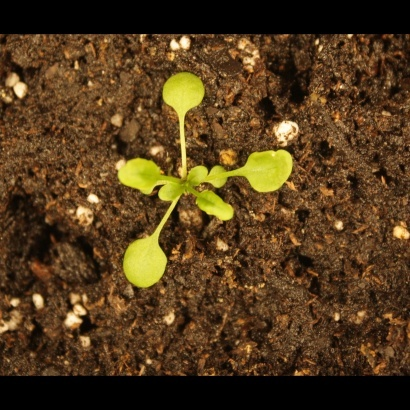leaf: (241, 146, 306, 198), (120, 230, 170, 296), (159, 64, 213, 114), (111, 152, 172, 195), (191, 188, 233, 226), (203, 164, 236, 188), (183, 164, 208, 191), (157, 180, 184, 203)
